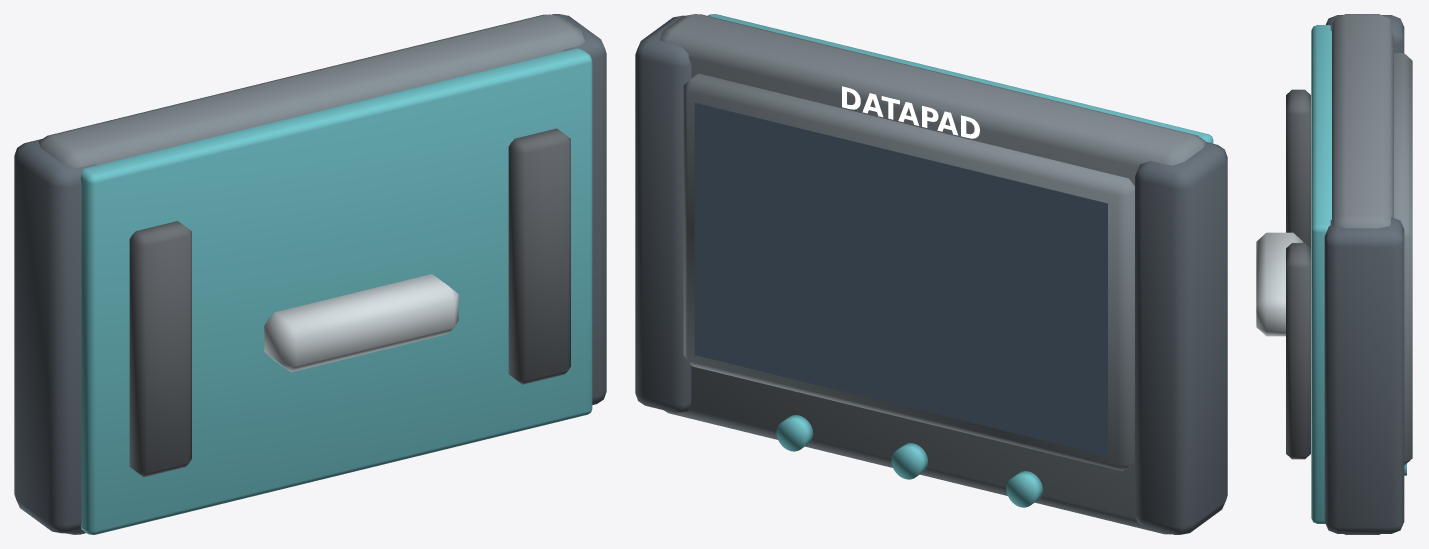
File: datapad_enhanced.glb
3 views of the same model, side by side, from view 1: azimuth 30°, elevation 25°; view 2: azimuth 150°, elevation 25°; view 3: azimuth 270°, elevation 25° (orthographic). The views are drawn at different scales.
Visible parts, largest first — view 1: RearArmor_teal, Bumper_black, RearGrip_rubber, TabletBody_frame, RearHandleMount_steel; view 2: LiveViewSurface_glass, Bumper_black, TabletBody_frame, LiveViewSurfaceFrame_frame, Button_teal, RearArmor_teal, TypeLabel_white; view 3: Bumper_black, TabletBody_frame, RearGrip_rubber, RearArmor_teal, LiveViewSurfaceFrame_frame, RearHandleMount_steel.
Boxes of the visible parts, x1,y1,x2,y2 form: RearArmor_teal: [80, 48, 592, 534]; Bumper_black: [14, 14, 606, 533]; RearGrip_rubber: [129, 128, 570, 477]; TabletBody_frame: [39, 14, 584, 534]; RearHandleMount_steel: [264, 274, 458, 372]; LiveViewSurface_glass: [694, 103, 1107, 455]; Bumper_black: [635, 15, 1227, 534]; TabletBody_frame: [660, 14, 1205, 534]; LiveViewSurfaceFrame_frame: [683, 73, 1134, 471]; Button_teal: [776, 415, 1042, 507]; RearArmor_teal: [708, 14, 1213, 143]; TypeLabel_white: [842, 86, 979, 138]; Bumper_black: [1324, 15, 1404, 533]; TabletBody_frame: [1332, 14, 1393, 534]; RearGrip_rubber: [1286, 89, 1310, 459]; RearArmor_teal: [1311, 25, 1331, 523]; LiveViewSurfaceFrame_frame: [1394, 53, 1412, 465]; RearHandleMount_steel: [1256, 232, 1303, 336].
Bounding box in the file's own units: 0.97 × 0.64 × 0.2875.
